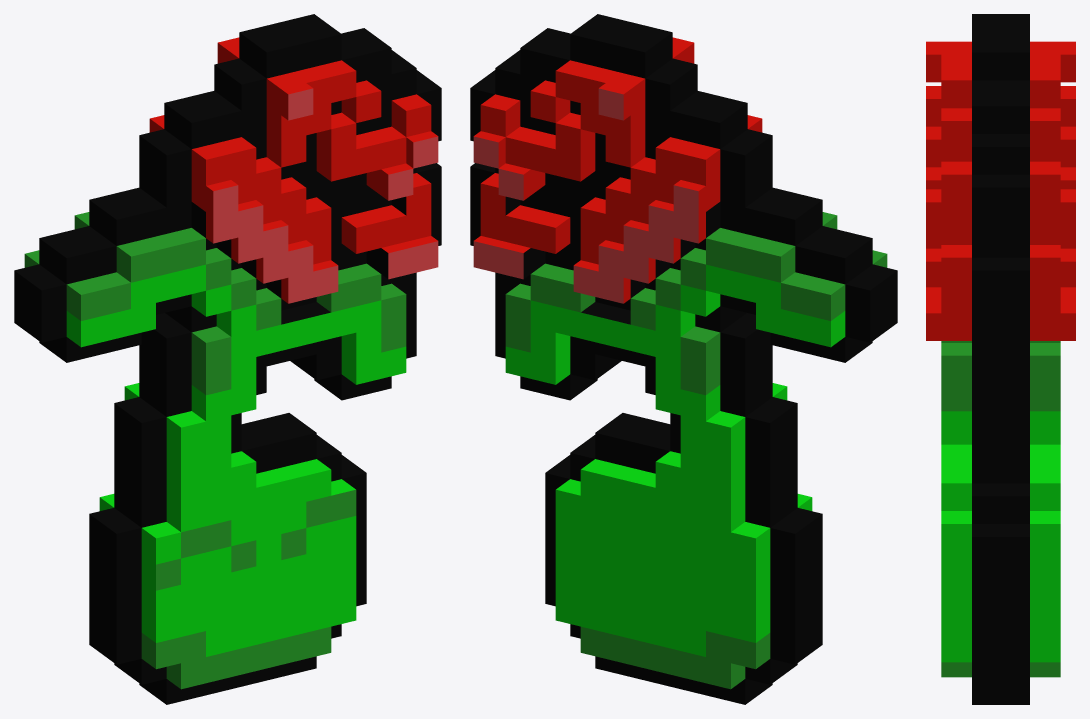
The model's file is tiplouf3.glb.
The picture shows the model from 3 angles, left to right: view 1: azimuth 30°, elevation 25°; view 2: azimuth 150°, elevation 25°; view 3: azimuth 270°, elevation 25°; orthographic projection. The views are drawn at different scales.
Parts seen in each view (by area): view 1: Cube; view 2: Cube; view 3: Cube.
Boxes of the visible parts, box(x1,y1,x2,y2) form: Cube: box(14, 14, 441, 704); Cube: box(470, 14, 897, 704); Cube: box(926, 14, 1075, 704).
Bounding box in the file's own units: 32 × 48 × 9.81.
